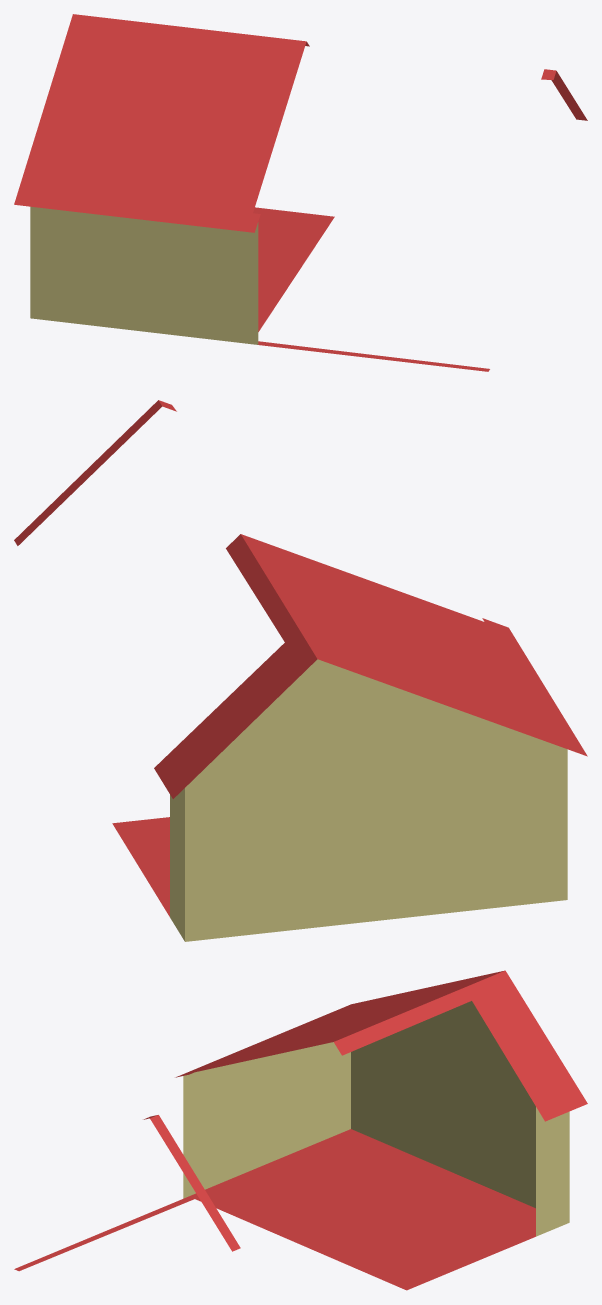
3 renders of one model, top to bottom at view 1: azimuth 30°, elevation 25°; view 2: azimuth 150°, elevation 25°; view 3: azimuth 270°, elevation 25°, orthographic. The views are drawn at different scales.
Bounding box in the file's own units: 22.61 × 21.97 × 9.16.
